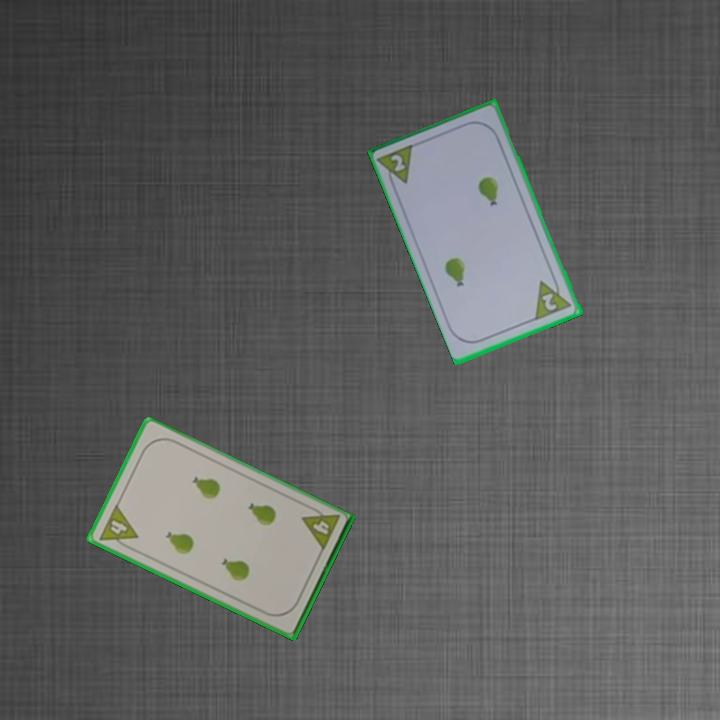2p: (375, 140, 418, 193), (539, 290, 560, 314)
4p: (95, 501, 141, 553), (298, 502, 343, 554)
